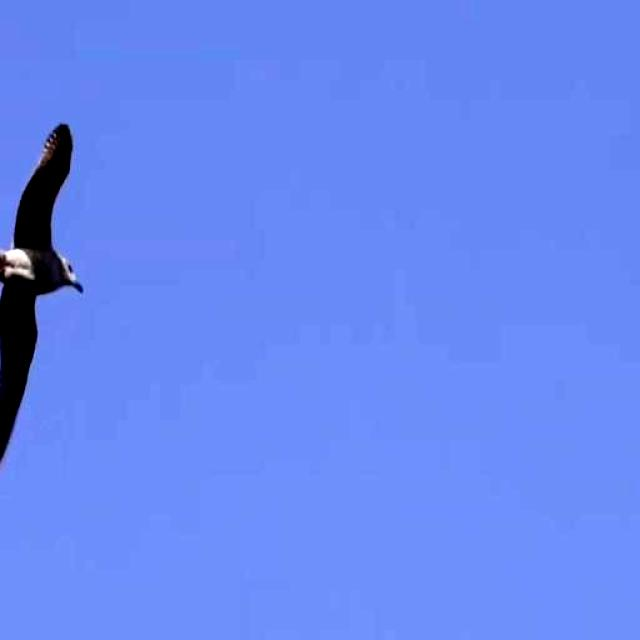airplane: (0, 118, 91, 490)
